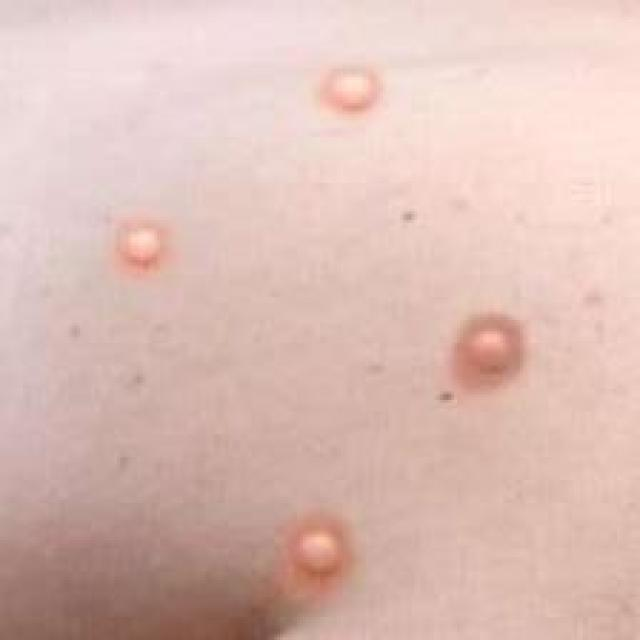monkeypox: (64, 19, 596, 618)
